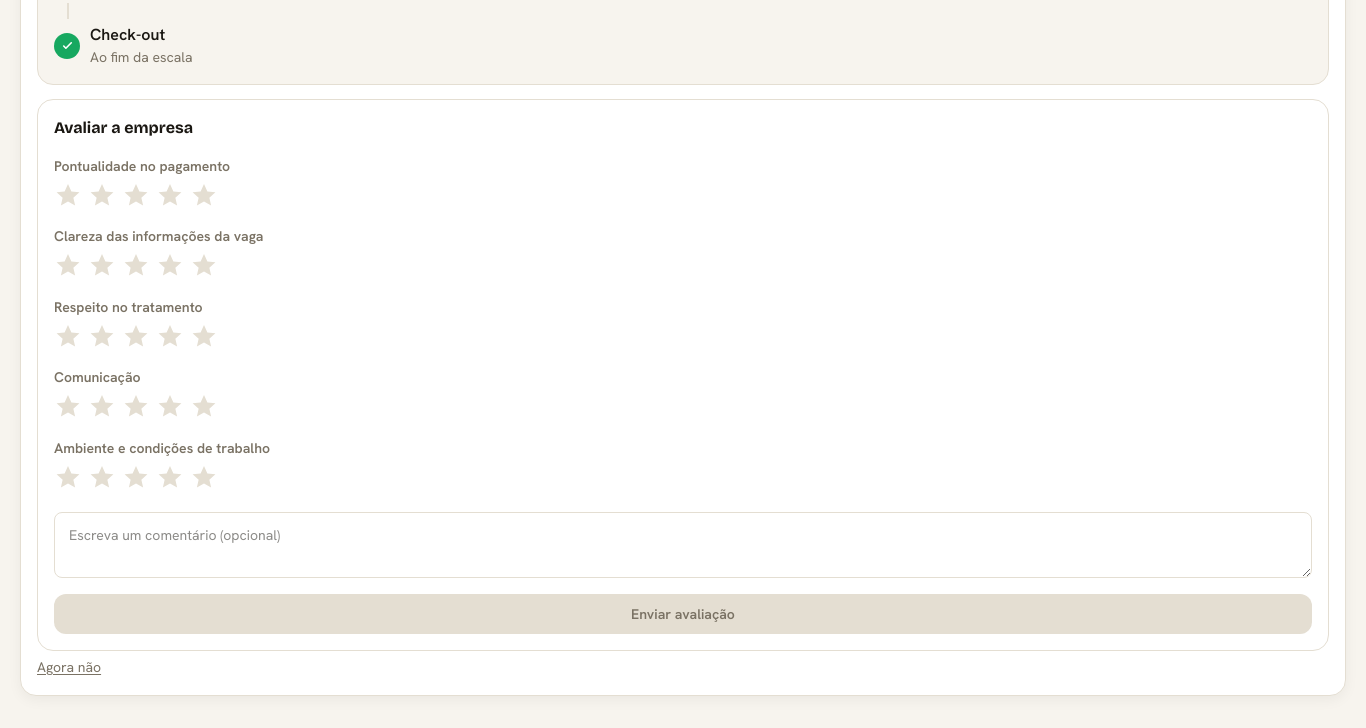
Test: AgendaPage › ignora a avaliação ao clicar em "Agora não", e permite avaliar mesmo assim depois
The width and height of the screenshot is (1366, 728).
(page scrolled)
Expected: the text "Avaliar a empresa" is shown, [54,118,193,137]
Click the button "Agora não": (69, 667) [37,657,101,677]
(page scrolled)
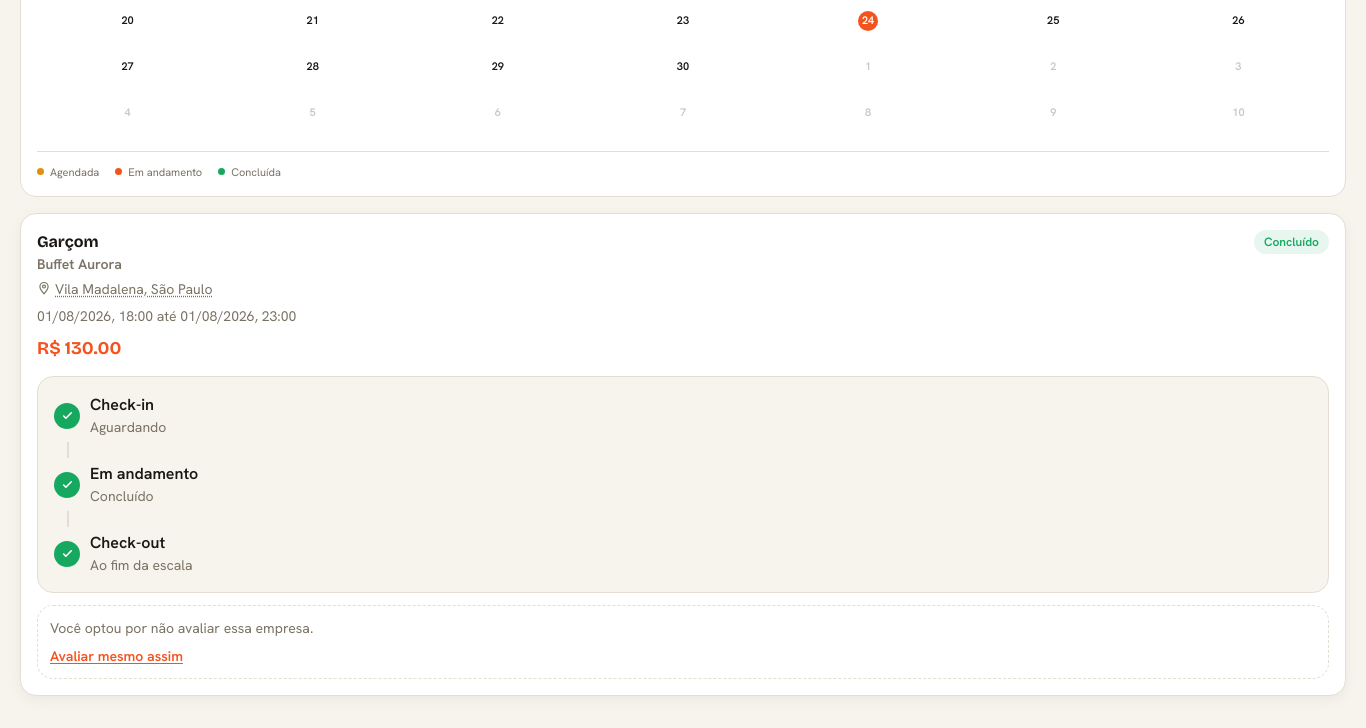
Expected: the text "Você optou por não avaliar essa empresa." is shown, [50,619,313,637]
Expected: the text "Avaliar a empresa" is gone
Click the button "Avaliar mesmo assim": (116, 656) [50,646,183,666]
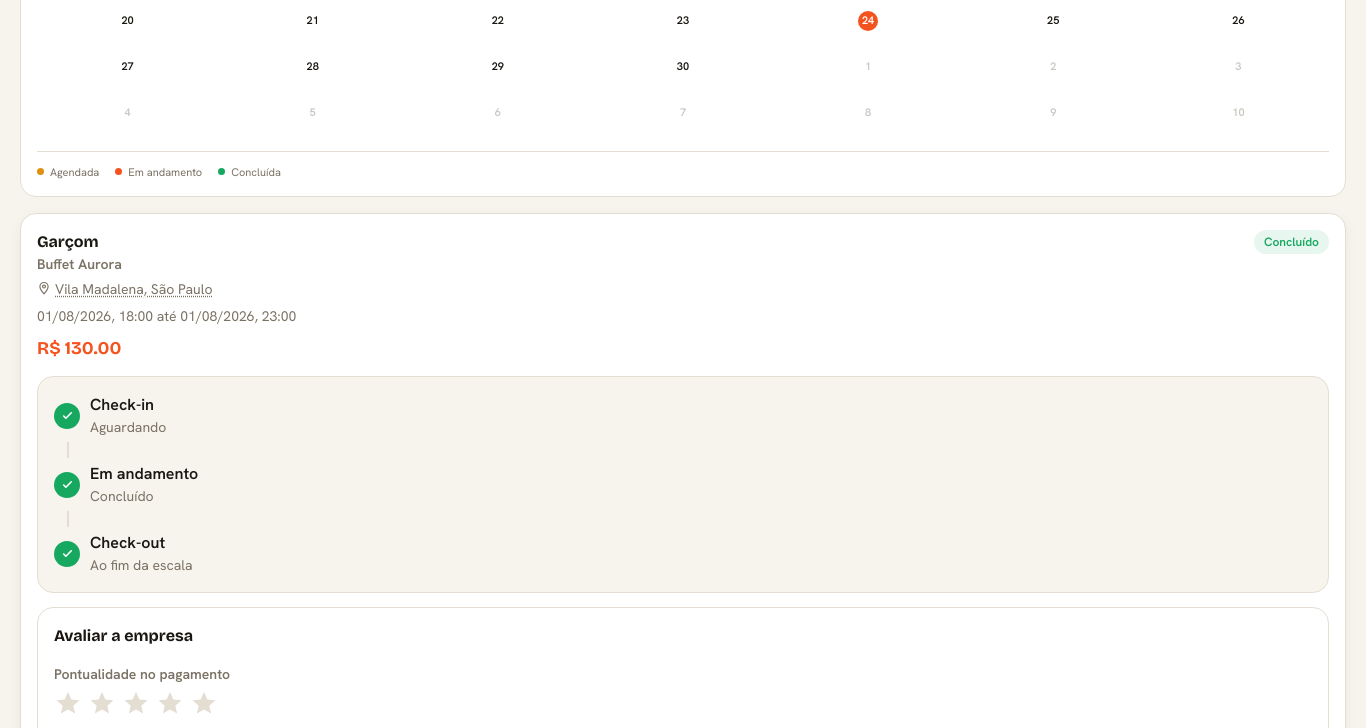
Expected: the text "Avaliar a empresa" is shown, [54,626,193,645]
